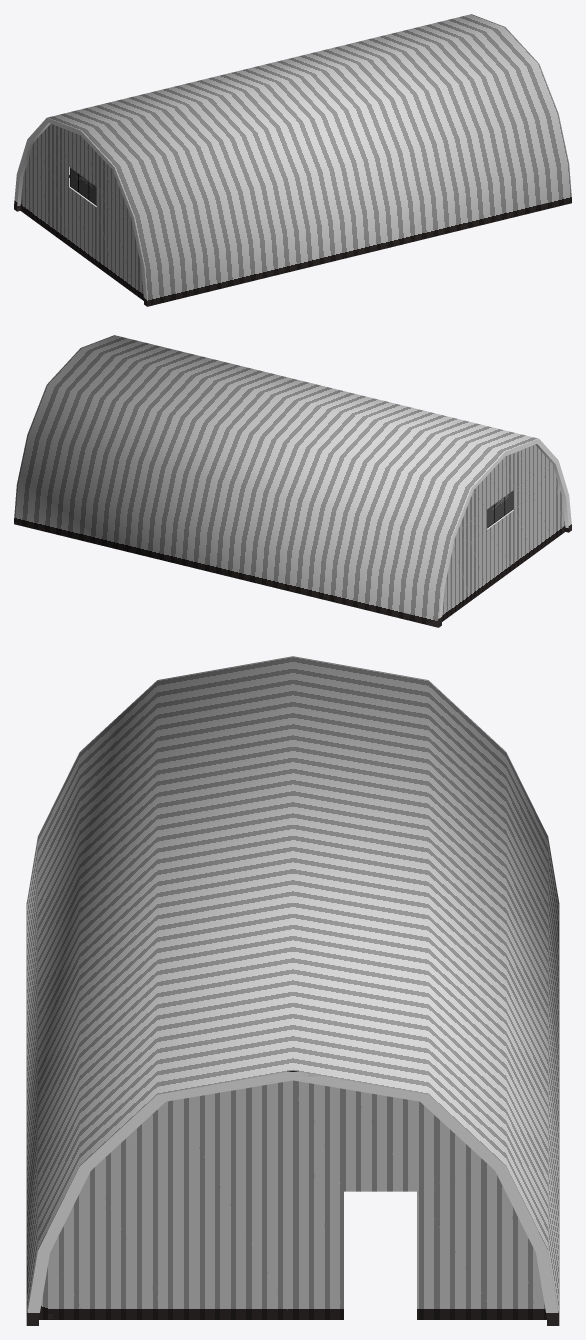
Rendered from storage.glb.
3 renders of one model, top to bottom at view 1: azimuth 30°, elevation 25°; view 2: azimuth 150°, elevation 25°; view 3: azimuth 270°, elevation 25°, orthographic. The views are drawn at different scales.
Visible parts, largest first — view 1: Cube.001, Cube.002; view 2: Cube.001, Cube.002; view 3: Cube.001.
Boxes of the visible parts, <box> form: Cube.001: <box>14,14,571,306</box>; Cube.002: <box>70,167,96,205</box>; Cube.001: <box>14,335,571,627</box>; Cube.002: <box>487,490,513,528</box>; Cube.001: <box>26,656,559,1325</box>.
Bounding box in the file's own units: 75.72 × 21.72 × 41.12.
Materials: 2 (2 with a texture image).
